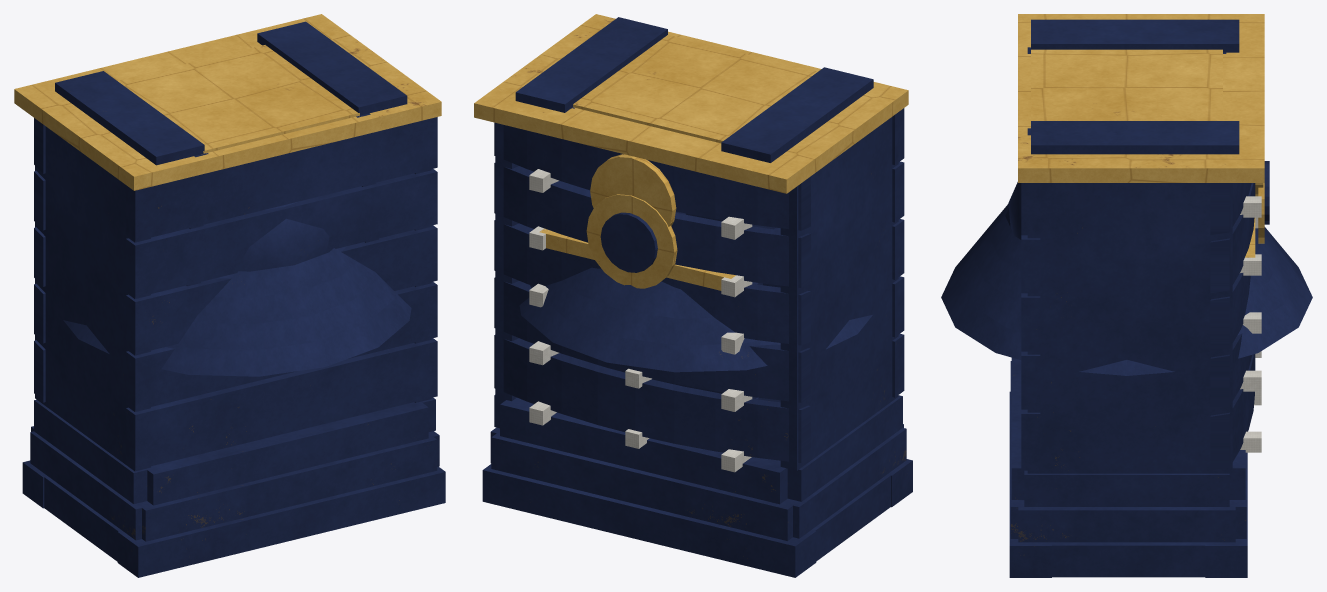
The model's file is HO_Armor_Oathguard.fbx.
3 renders of one model, left to right at view 1: azimuth 30°, elevation 25°; view 2: azimuth 150°, elevation 25°; view 3: azimuth 270°, elevation 25°, orthographic. The views are drawn at different scales.
Visible parts, largest first — view 1: HO_Armor_Oathguard_Torso__Navy_Lacquer, HO_Armor_Oathguard_Helmet__Navy_Lacquer, HO_Armor_Oathguard_Torso__Gold_Leaf, HO_Armor_Oathguard_LeftArm__Gold_Leaf; view 2: HO_Armor_Oathguard_Torso__Navy_Lacquer, HO_Armor_Oathguard_Torso__Gold_Leaf, HO_Armor_Oathguard_Helmet__Navy_Lacquer, HO_Armor_Oathguard_LeftArm__Gold_Leaf, HO_Armor_Oathguard_Torso__Cloth_White, HO_Armor_Oathguard_Helmet__Gold_Leaf; view 3: HO_Armor_Oathguard_Torso__Navy_Lacquer, HO_Armor_Oathguard_Helmet__Navy_Lacquer, HO_Armor_Oathguard_Torso__Gold_Leaf, HO_Armor_Oathguard_LeftArm__Gold_Leaf, HO_Armor_Oathguard_Torso__Cloth_White.
Boxes of the visible parts, left/top/right/bottom form: HO_Armor_Oathguard_Torso__Navy_Lacquer: left=22, top=21, right=445, bottom=577; HO_Armor_Oathguard_Helmet__Navy_Lacquer: left=51, top=201, right=411, bottom=376; HO_Armor_Oathguard_Torso__Gold_Leaf: left=14, top=14, right=441, bottom=190; HO_Armor_Oathguard_LeftArm__Gold_Leaf: left=117, top=45, right=359, bottom=153; HO_Armor_Oathguard_Torso__Navy_Lacquer: left=482, top=17, right=912, bottom=577; HO_Armor_Oathguard_Torso__Gold_Leaf: left=474, top=14, right=908, bottom=288; HO_Armor_Oathguard_Helmet__Navy_Lacquer: left=519, top=211, right=872, bottom=372; HO_Armor_Oathguard_LeftArm__Gold_Leaf: left=573, top=35, right=817, bottom=143; HO_Armor_Oathguard_Torso__Cloth_White: left=529, top=169, right=752, bottom=472; HO_Armor_Oathguard_Helmet__Gold_Leaf: left=539, top=154, right=735, bottom=290; HO_Armor_Oathguard_Torso__Navy_Lacquer: left=1009, top=19, right=1269, bottom=577; HO_Armor_Oathguard_Helmet__Navy_Lacquer: left=941, top=182, right=1312, bottom=375; HO_Armor_Oathguard_Torso__Gold_Leaf: left=1018, top=14, right=1264, bottom=243; HO_Armor_Oathguard_LeftArm__Gold_Leaf: left=1031, top=49, right=1222, bottom=120; HO_Armor_Oathguard_Torso__Cloth_White: left=1240, top=196, right=1261, bottom=452.
Size of the model in its own units: 2.32 by 2.88 by 2.32.
